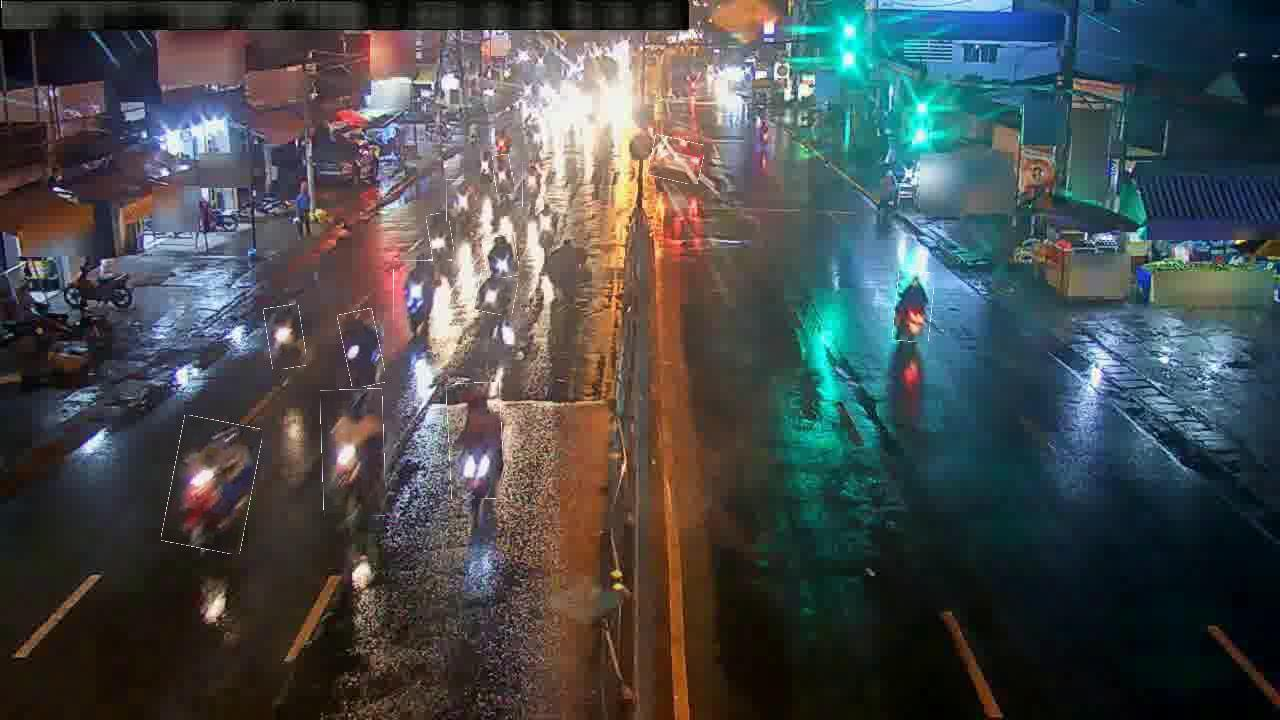container: (649, 137, 704, 183)
motorbike: (166, 418, 258, 552), (321, 389, 385, 517), (448, 383, 503, 500), (341, 310, 383, 387), (394, 260, 436, 333), (894, 271, 934, 343), (266, 305, 305, 369), (476, 271, 518, 315), (484, 235, 519, 278), (428, 214, 454, 262), (446, 179, 467, 222), (522, 162, 541, 208), (494, 155, 514, 196)
